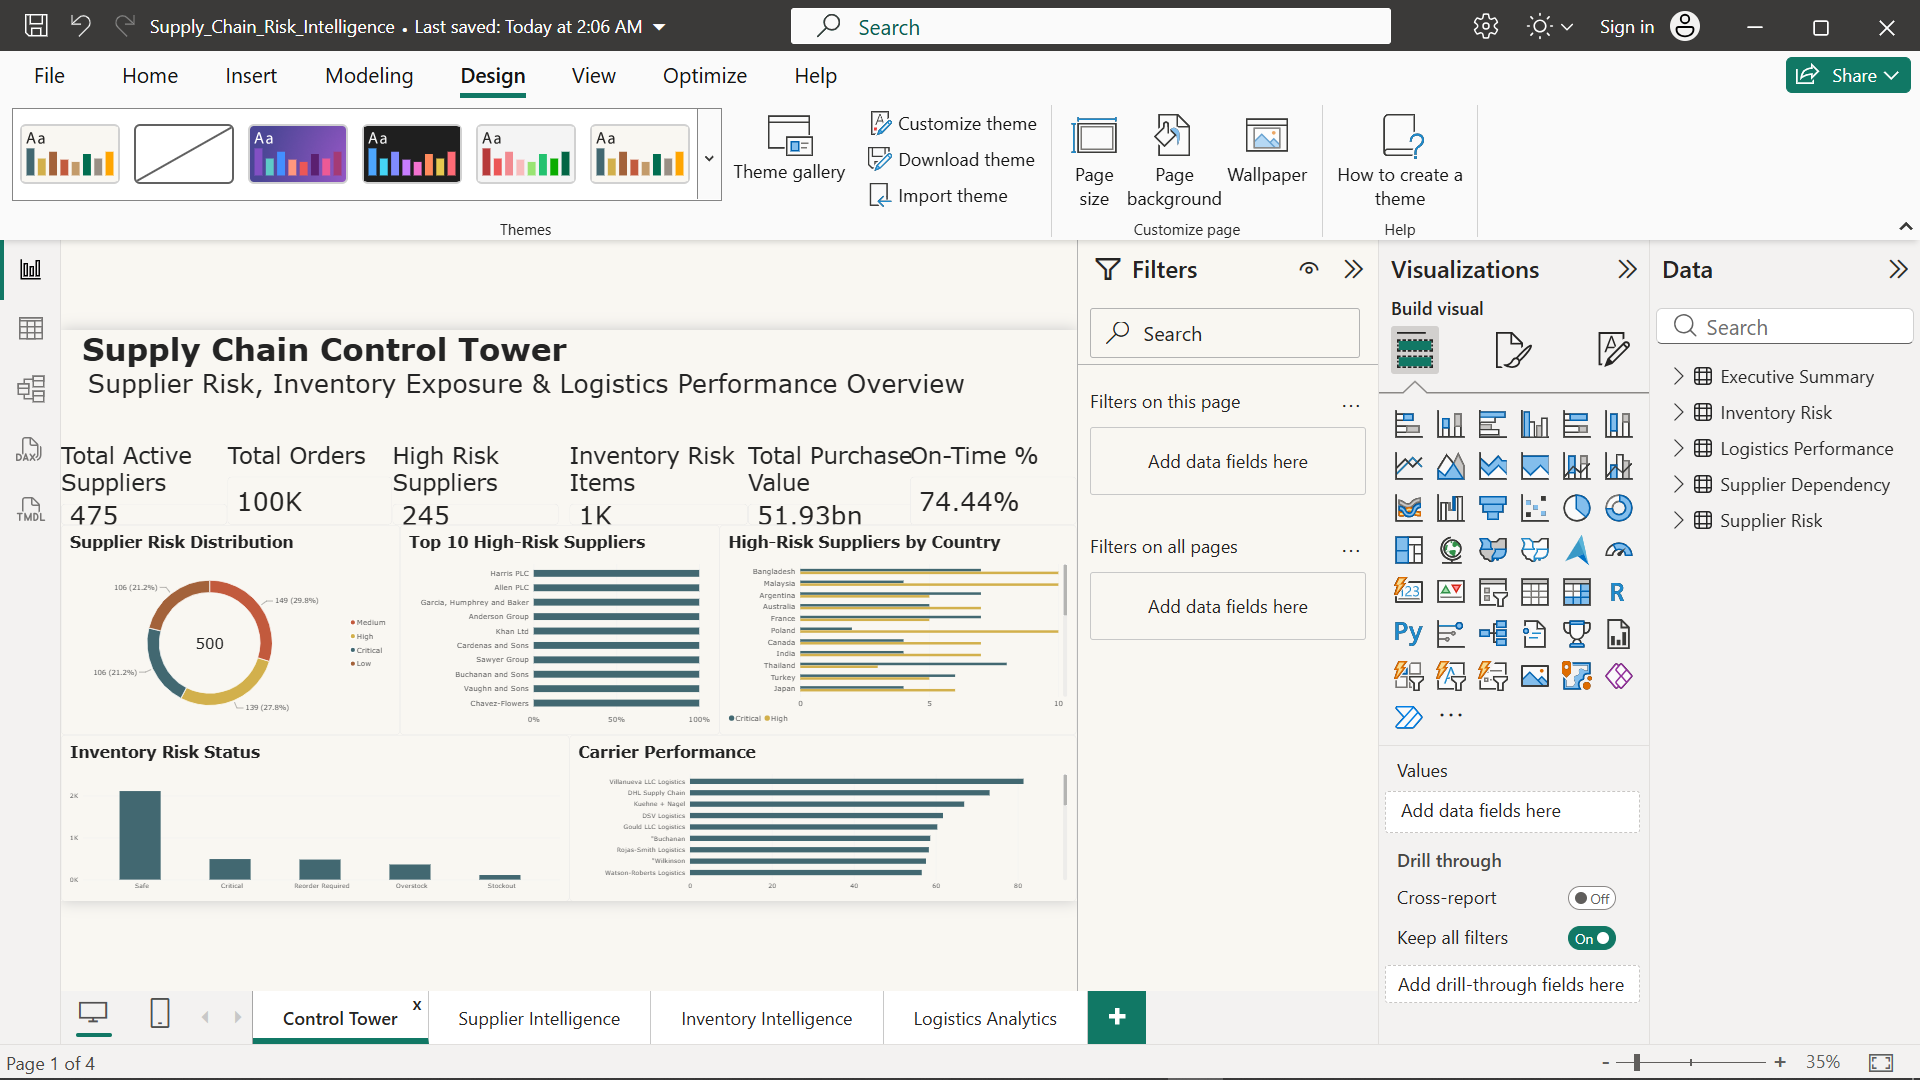

This screenshot's page, from the dashboard's own definition file:
{"tool":"powerbi","page":{"name":"Control Tower","canvas":[1920,1080],"ordinal":0},"visuals":[{"type":"textbox","box":[0,0,1919.1,141.7],"z":0},{"type":"cardVisual","title":"Total Active Suppliers","fields":{"Data":["Sum(Executive Summary.TotalActiveSuppliers)"]},"box":[0,209.8,314.6,158.7],"z":1000},{"type":"cardVisual","title":"Total Orders","fields":{"Data":["Sum(Executive Summary.TotalOrders)"]},"box":[314.6,209.8,311.8,158.7],"z":2000},{"type":"cardVisual","title":"High Risk Suppliers","fields":{"Data":["Sum(Executive Summary.HighRiskSuppliers)"]},"box":[626.5,209.8,314.6,158.7],"z":3000},{"type":"cardVisual","title":"Inventory Risk Items","fields":{"Data":["Sum(Executive Summary.InventoryRiskItems)"]},"box":[961,209.8,337.3,158.7],"z":4000},{"type":"cardVisual","title":"Total Purchase Value","fields":{"Data":["Sum(Executive Summary.TotalPurchaseValue)"]},"box":[1298.3,209.8,315,159],"z":5000},{"type":"cardVisual","title":"On-Time %","fields":{"Data":["Executive Summary.On-Time Delivery %"]},"box":[1604.4,209.8,315,159],"z":6000},{"type":"donutChart","title":"Supplier Risk Distribution","fields":{"Category":["Supplier Risk.RiskCategory"],"Y":["CountNonNull(Supplier Risk.SupplierID)"]},"box":[0,368.5,640.6,396.9],"z":7000},{"type":"hundredPercentStackedBarChart","title":"Top 10 High-Risk Suppliers","fields":{"Category":["Supplier Risk.SupplierName"],"Y":["Sum(Supplier Risk.RiskScore)"]},"box":[640.6,368.5,603.8,396.9],"z":8000},{"type":"clusteredBarChart","title":"High-Risk Suppliers by Country","fields":{"Category":["Supplier Risk.Country"],"Series":["Supplier Risk.RiskCategory"],"Y":["CountNonNull(Supplier Risk.SupplierName)"]},"box":[1244.4,368.5,674.7,396.9],"z":9000},{"type":"columnChart","title":"Inventory Risk Status","fields":{"Category":["Inventory Risk.InventoryRiskStatus"],"Y":["CountNonNull(Inventory Risk.InventoryRecordID)"]},"box":[0,765.4,961,314.6],"z":10000},{"type":"barChart","title":"Carrier Performance","fields":{"Category":["Logistics Performance.CarrierName"],"Y":["Sum(Logistics Performance.LogisticsPerformanceScore)"]},"box":[961,765.4,958.1,314.6],"z":11000}]}

Visuals, with their boxes on the page's 1920x1080 design canvas (x1, y1, x2, y2). These are canvas units, not pixel positions in the 1920x1080 screenshot, which may show the page scaled, cropped or inside an application window:
textbox: (0, 0, 1919, 142)
"Total Active Suppliers" cardVisual: (0, 210, 315, 368)
"Total Orders" cardVisual: (315, 210, 626, 368)
"High Risk Suppliers" cardVisual: (626, 210, 941, 368)
"Inventory Risk Items" cardVisual: (961, 210, 1298, 368)
"Total Purchase Value" cardVisual: (1298, 210, 1613, 369)
"On-Time %" cardVisual: (1604, 210, 1919, 369)
"Supplier Risk Distribution" donutChart: (0, 368, 641, 765)
"Top 10 High-Risk Suppliers" hundredPercentStackedBarChart: (641, 368, 1244, 765)
"High-Risk Suppliers by Country" clusteredBarChart: (1244, 368, 1919, 765)
"Inventory Risk Status" columnChart: (0, 765, 961, 1080)
"Carrier Performance" barChart: (961, 765, 1919, 1080)
